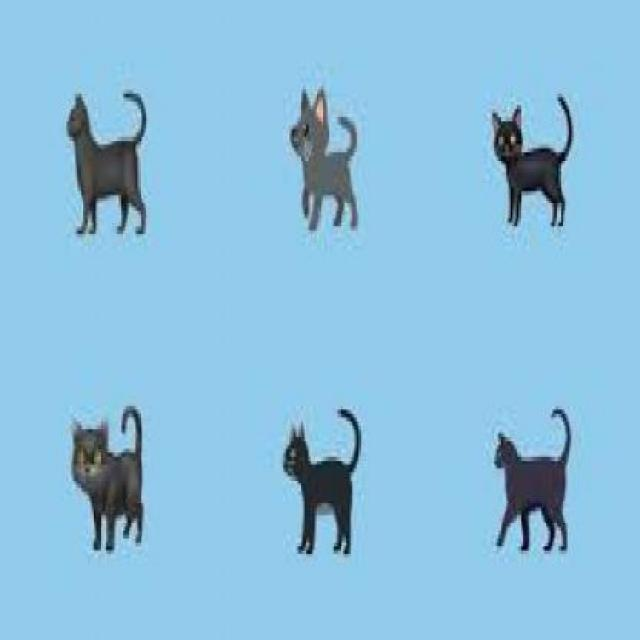animals: (63, 82, 152, 250), (281, 398, 367, 562), (490, 402, 578, 562), (71, 394, 152, 566), (486, 86, 580, 234), (285, 78, 367, 242)
